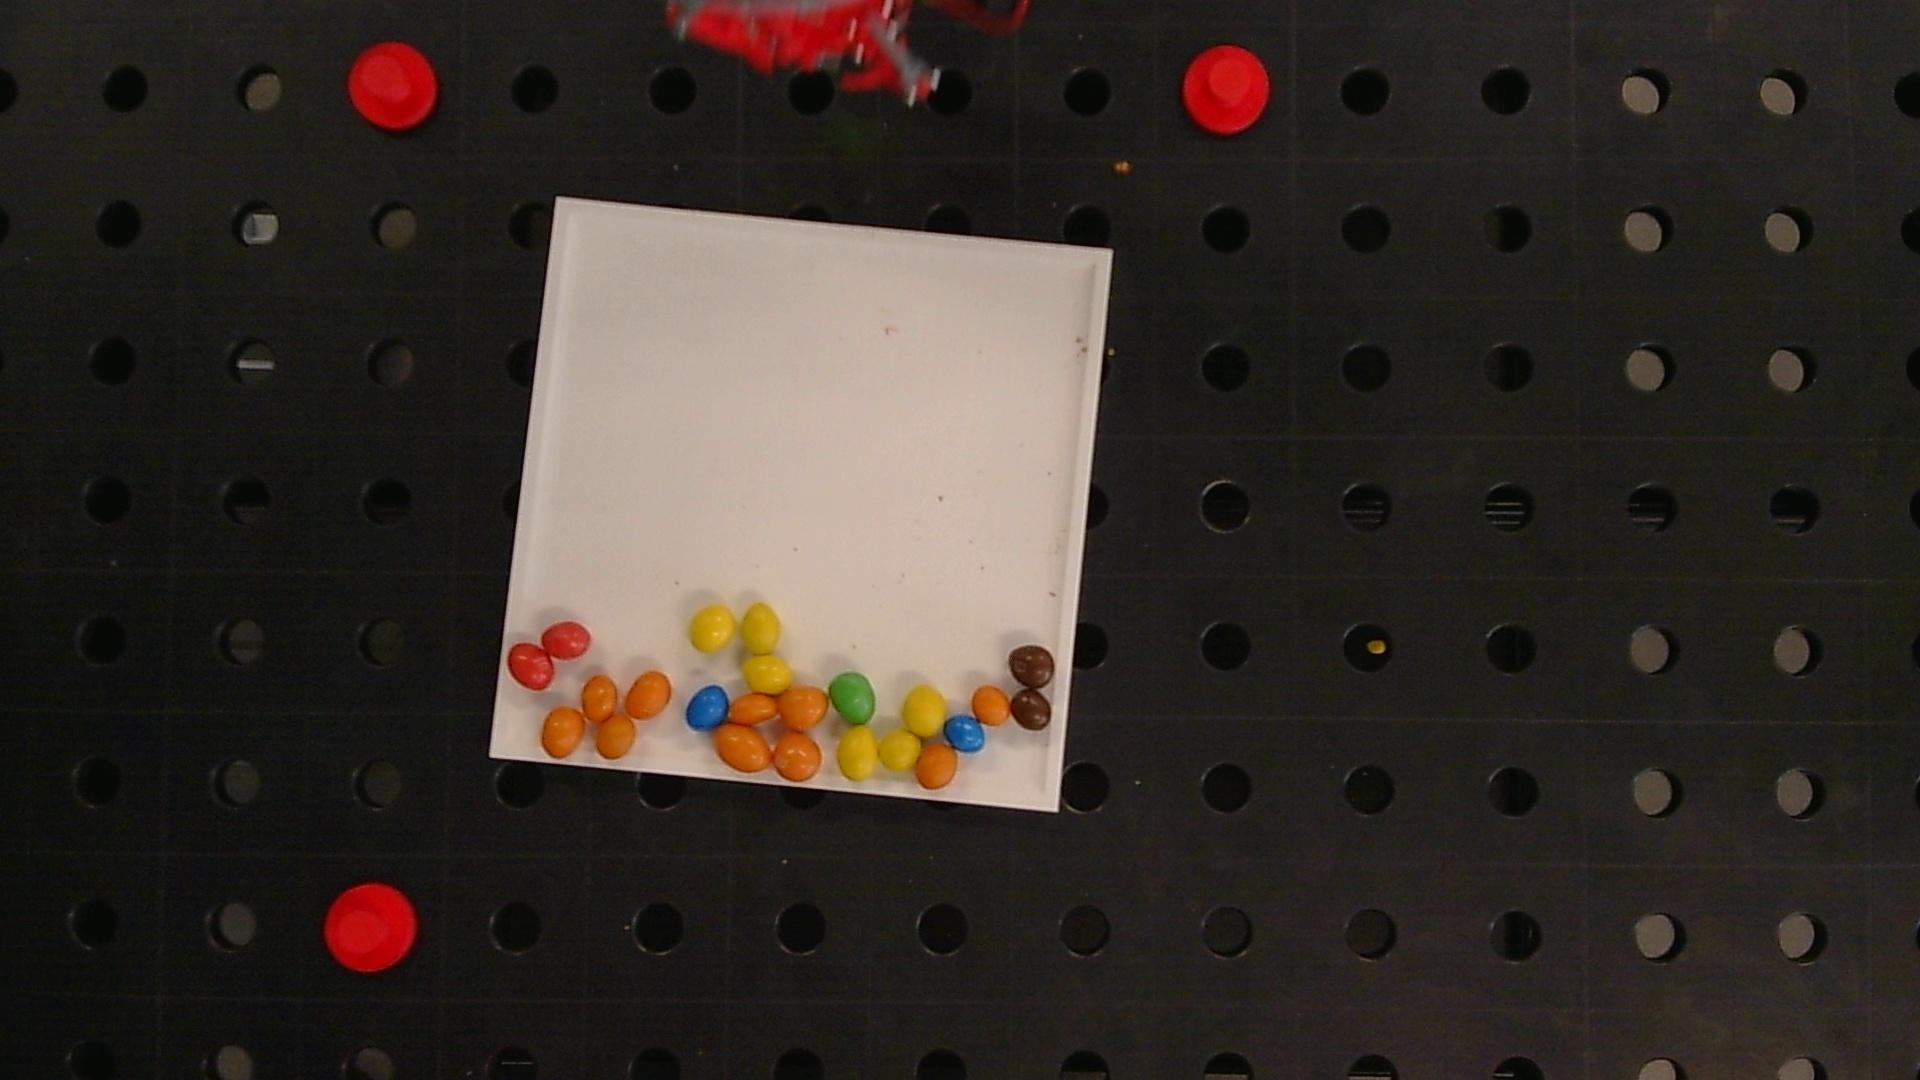blue: (686, 684, 728, 729), (944, 715, 985, 752)
brown: (1009, 644, 1055, 687), (1009, 690, 1052, 729)
green: (829, 673, 876, 724)
orange: (716, 724, 771, 773), (771, 733, 822, 781), (624, 671, 671, 719), (778, 686, 828, 729), (542, 707, 585, 757), (916, 742, 957, 787), (596, 713, 636, 758), (582, 674, 617, 721), (729, 694, 779, 725), (972, 686, 1010, 725)
red: (508, 642, 554, 690), (542, 621, 591, 659)
yellow: (836, 727, 878, 781), (690, 604, 736, 651), (903, 686, 947, 736), (742, 603, 781, 653), (745, 655, 791, 694), (880, 729, 920, 769)
